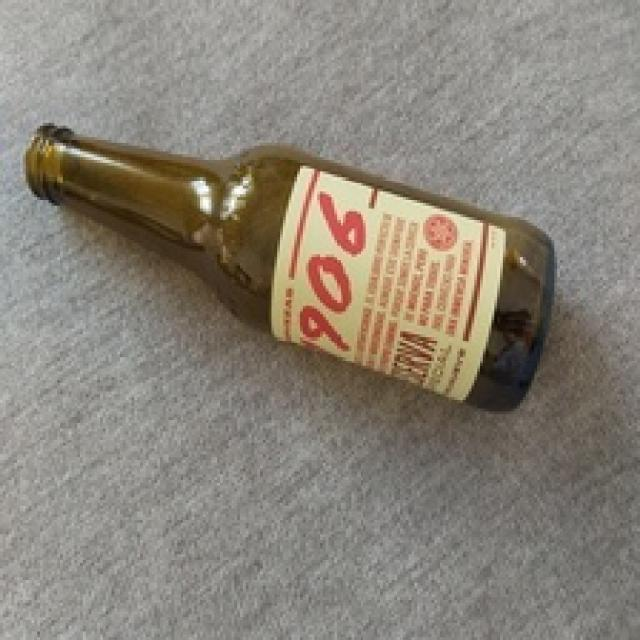Glass: (21, 118, 554, 418)
